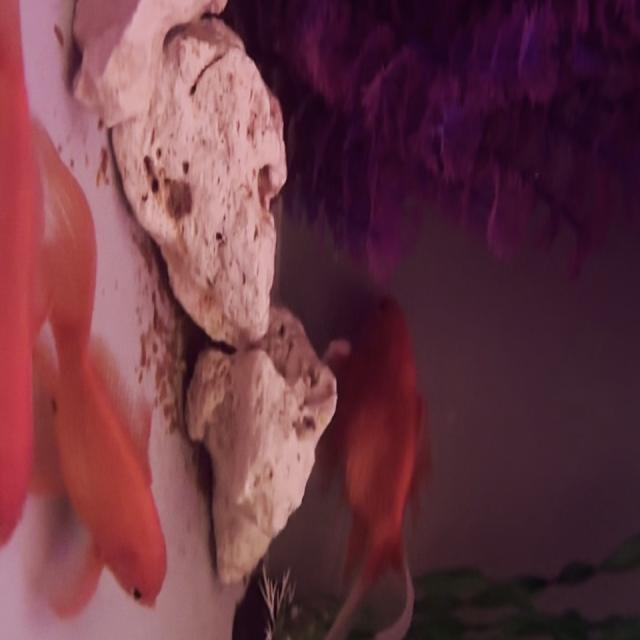fish: (41, 141, 197, 633), (306, 290, 432, 640)
